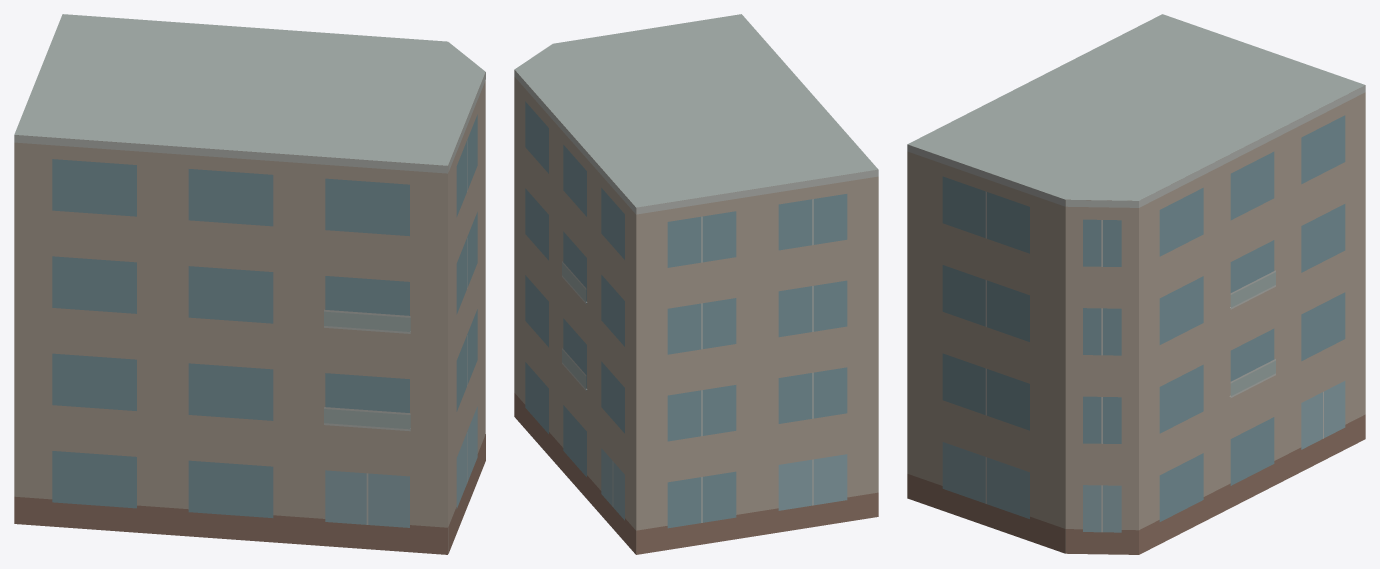
File: residential-cd4fda62-4504-44b5-9b9b-695a7054357a.glb
3 renders of one model, left to right at view 1: azimuth 30°, elevation 25°; view 2: azimuth 150°, elevation 25°; view 3: azimuth 270°, elevation 25°, orthographic. The views are drawn at different scales.
Visible parts, largest first — view 1: residential-cd4fda62-4504-44b5-9b9b-695a7054357a.tmp; view 2: residential-cd4fda62-4504-44b5-9b9b-695a7054357a.tmp; view 3: residential-cd4fda62-4504-44b5-9b9b-695a7054357a.tmp.
Part boxes in pixels (bbox=[...]): residential-cd4fda62-4504-44b5-9b9b-695a7054357a.tmp: bbox=[14, 14, 485, 554]; residential-cd4fda62-4504-44b5-9b9b-695a7054357a.tmp: bbox=[514, 14, 878, 554]; residential-cd4fda62-4504-44b5-9b9b-695a7054357a.tmp: bbox=[907, 14, 1365, 554].
Bounding box in the file's own units: 13.82 × 12.2 × 14.32.
